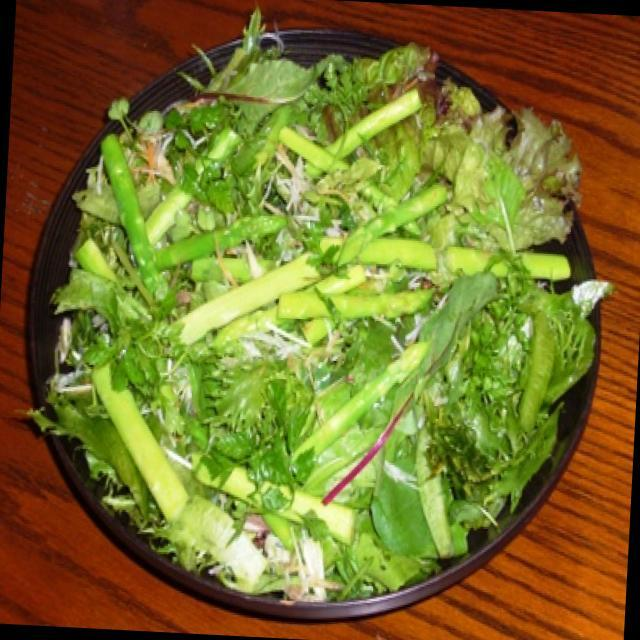Green Salad: (50, 39, 600, 596)
